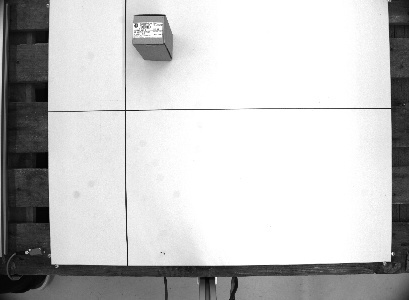b2: (130, 10, 176, 63)
